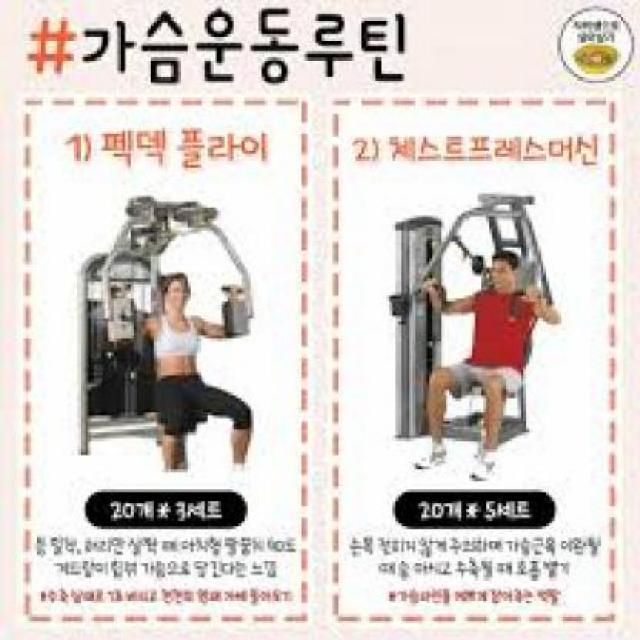chest fly machine: (47, 183, 276, 472)
